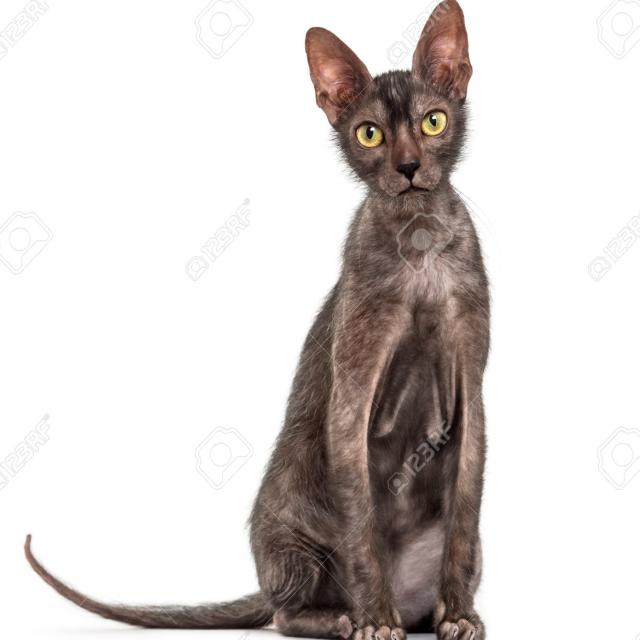Lykoi: (19, 0, 494, 640)
